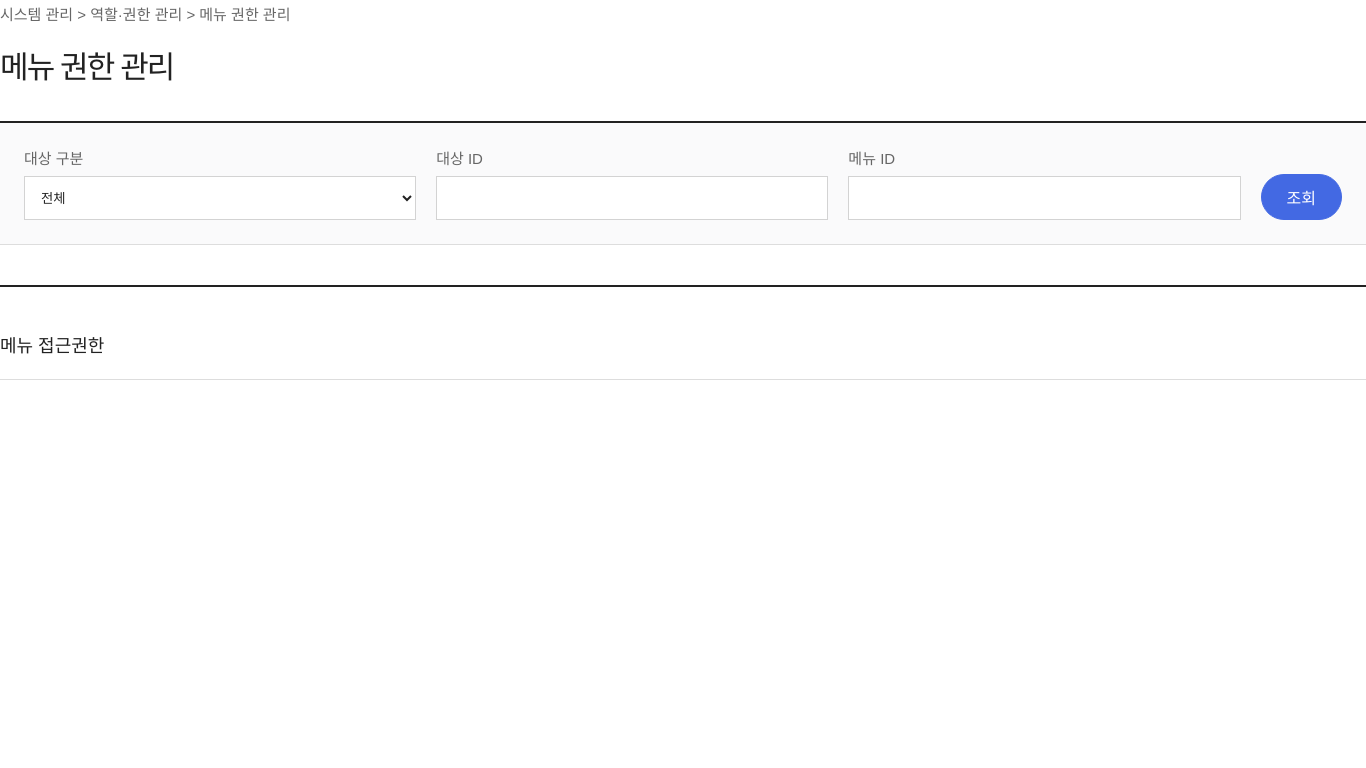
MenuPermissionManagementPage › queries a selected subject and requeries the permission matrix after saving access
Select "역할" in the dropdown labelled "대상 구분" at (220, 198), box [24,176,416,220]
Type "R09" into the field labelled "대상 ID" at (632, 198), box [436,176,828,220]
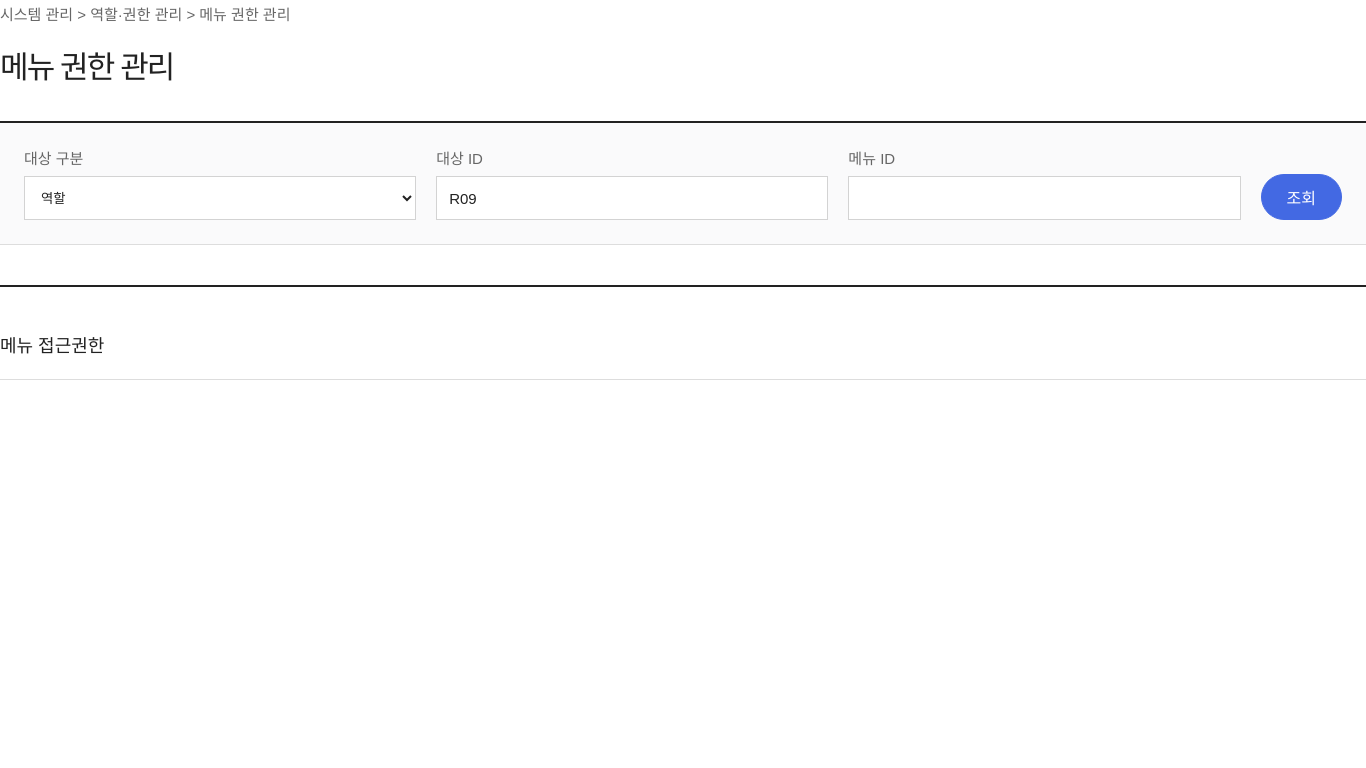
Click the button "조회" at (1301, 197), box [1260,174,1342,220]
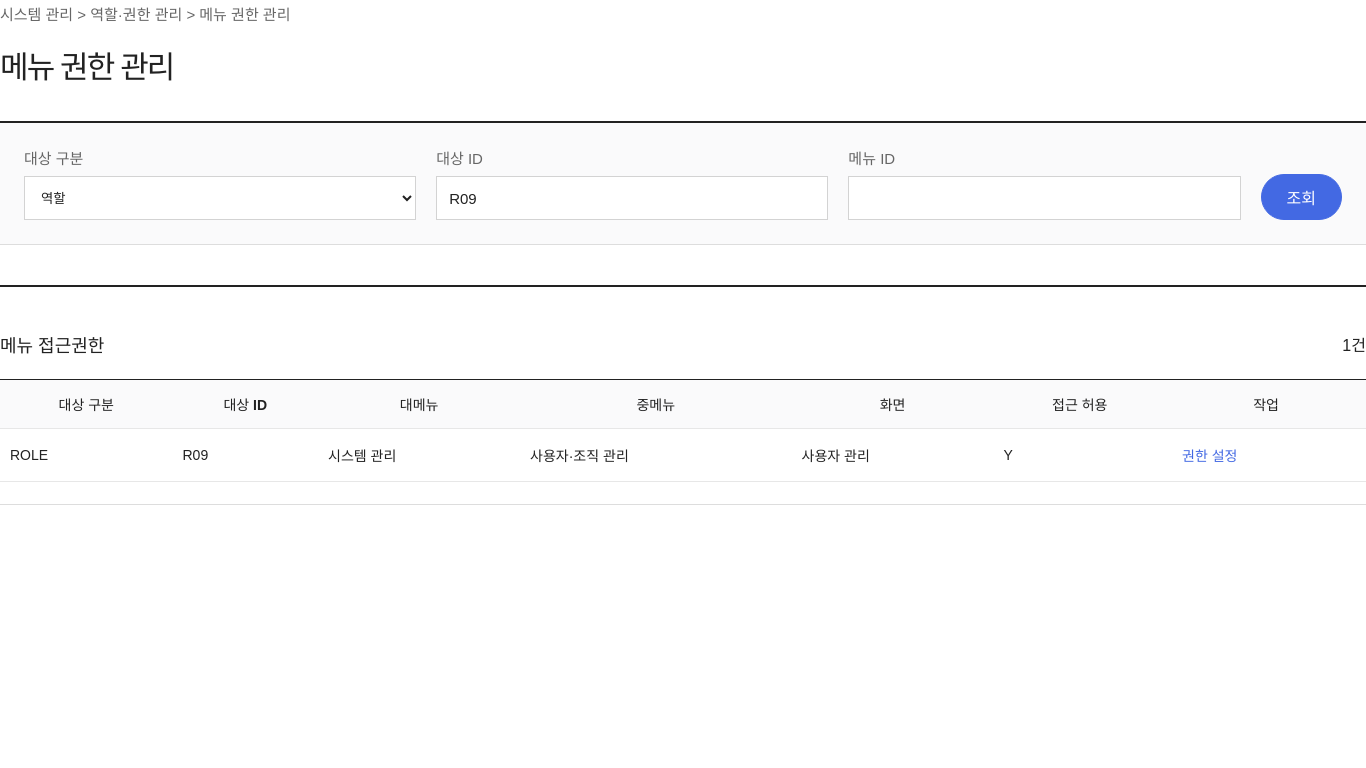
expect the text "사용자 관리" is shown: met, box [792,428,994,482]
Click the button "권한 설정" at (1210, 455), box [1176,444,1243,466]
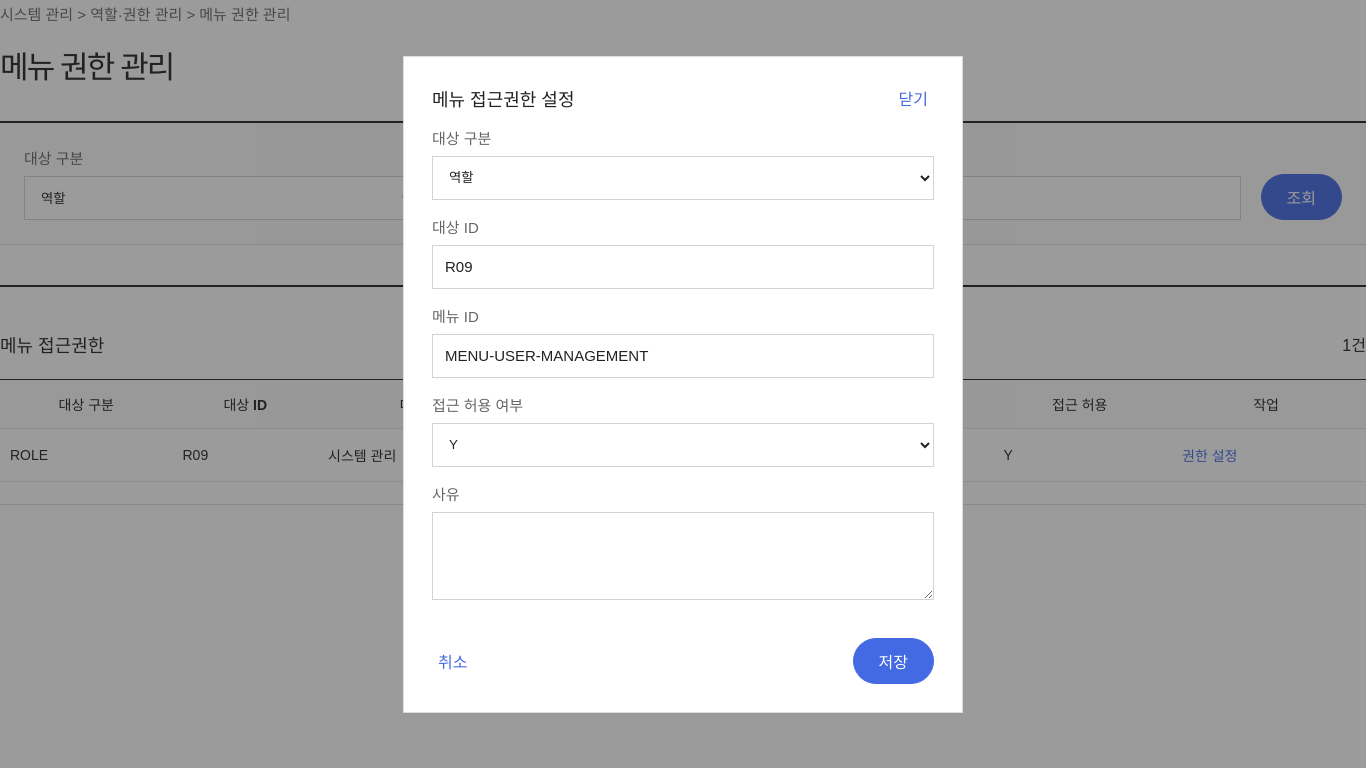
Select "N" in the dropdown labelled "접근 허용 여부" at (683, 444), box [432,422,934,466]
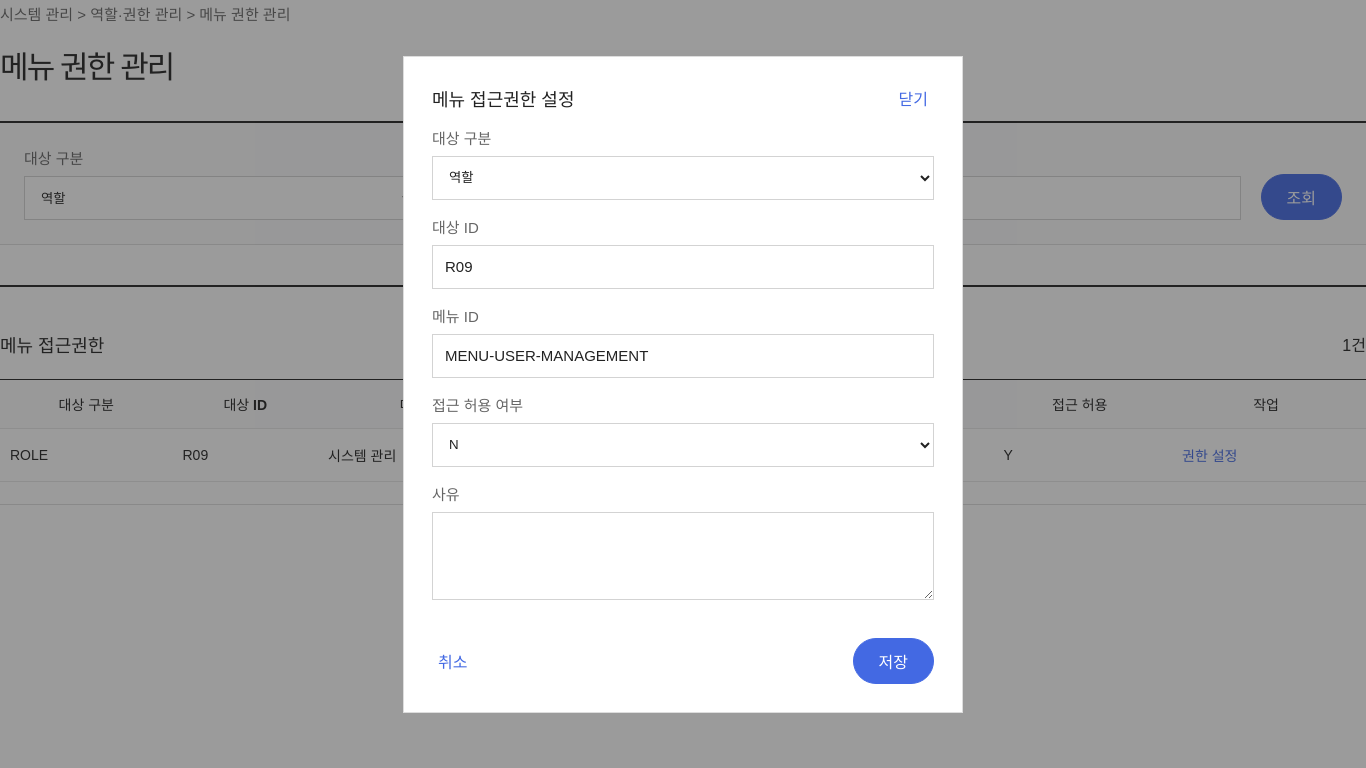
Type "권한 검토 결과 차단" into the text box labelled "사유" at (683, 556), box [432,512,934,600]
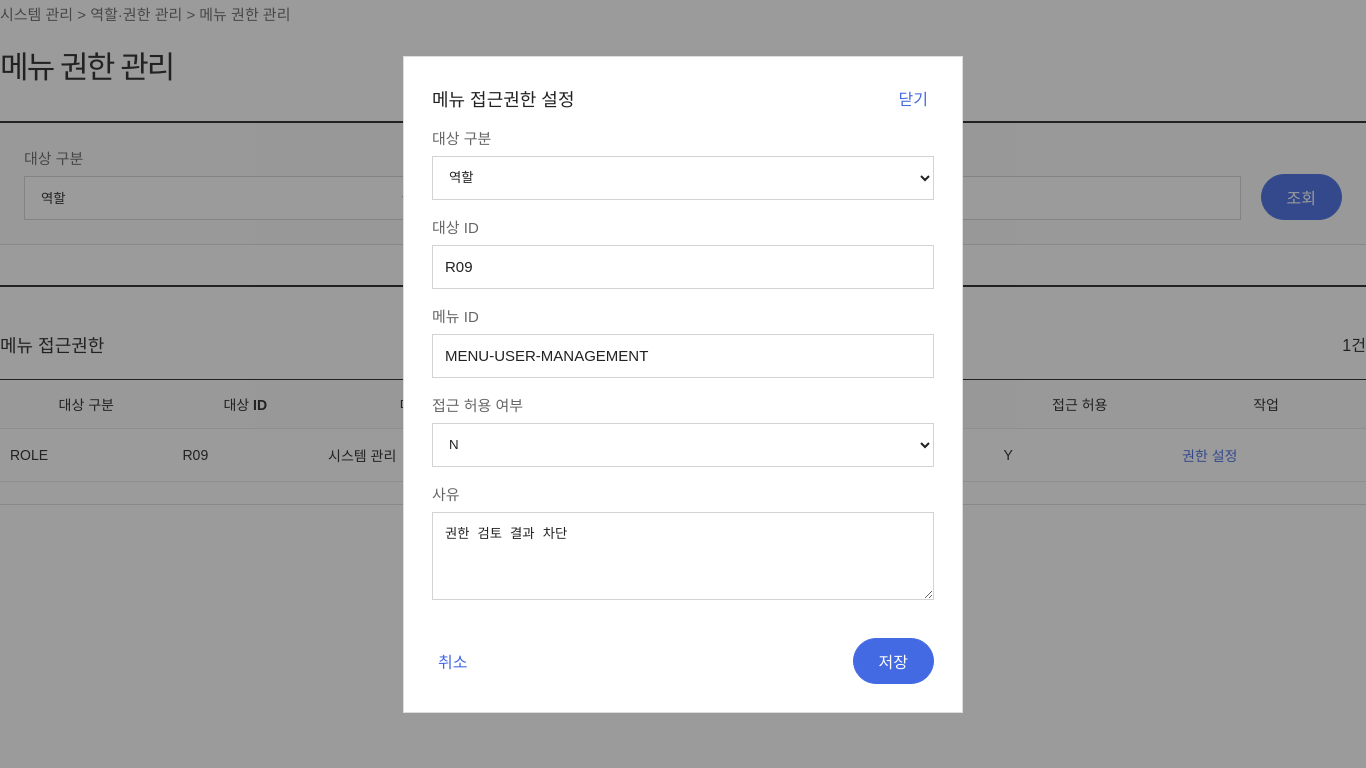
Click the button "저장" at (893, 660), box [852,638,934,684]
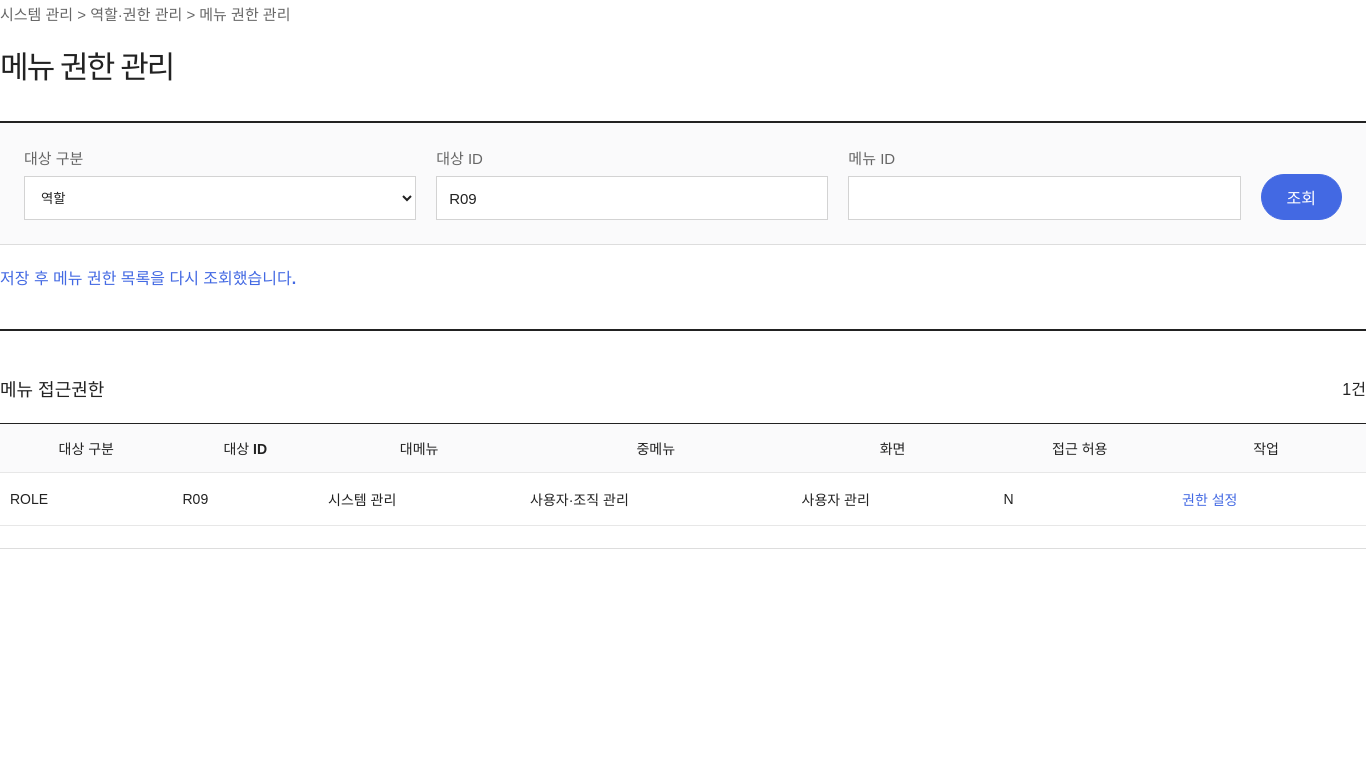
expect the text "저장 후 메뉴 권한 목록을 다시 조회했습니다." is shown: met, box [0,270,296,287]
expect the text "N" is shown: met, box [994,472,1166,526]
